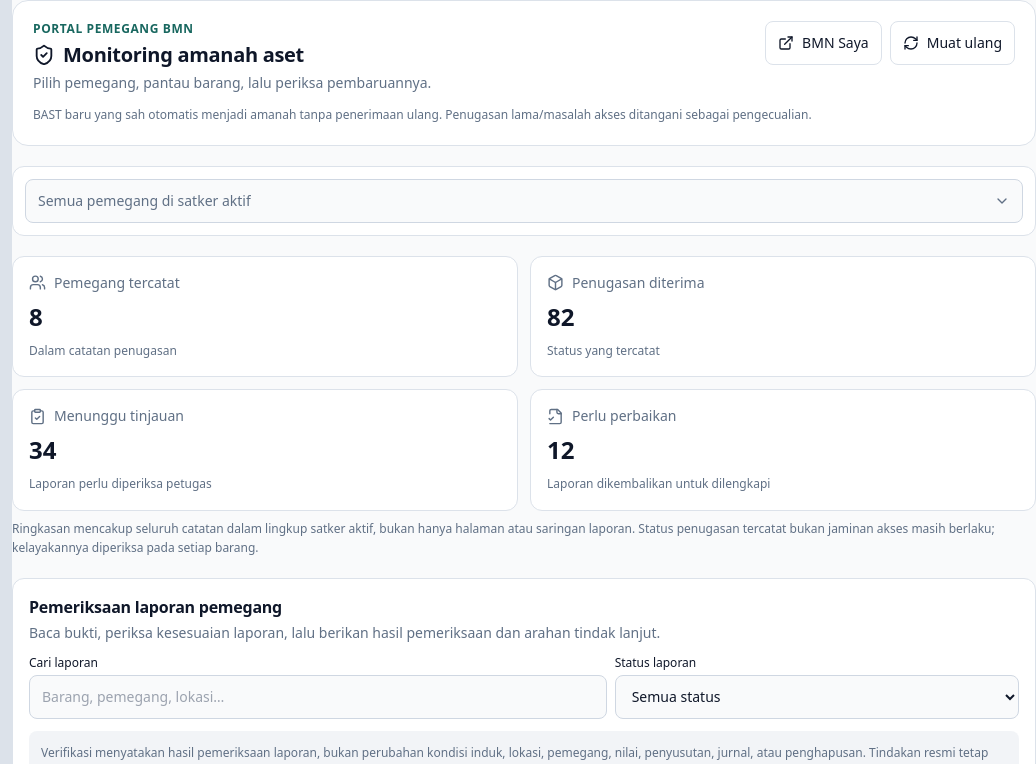
Test case: keadaan kosong dibedakan dari laporan yang gagal dimuat
Click the button with test id "portal-admin-muat".
click(952, 43)  # box left=890, top=21, right=1015, bottom=65
(page scrolled)
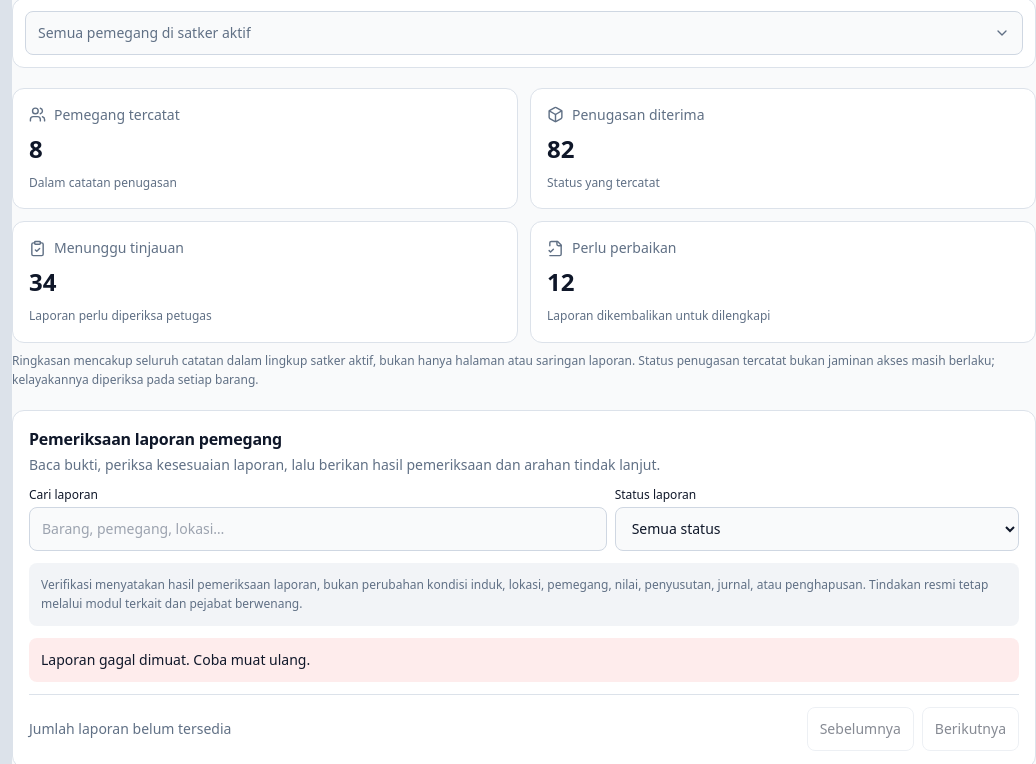
Expected: the text "Laporan gagal dimuat. Coba muat ulang." is shown, left=29, top=638, right=1019, bottom=682
Expected: the text with test id "portal-admin-total-laporan" reads "Jumlah laporan belum tersedia", left=29, top=718, right=231, bottom=738
